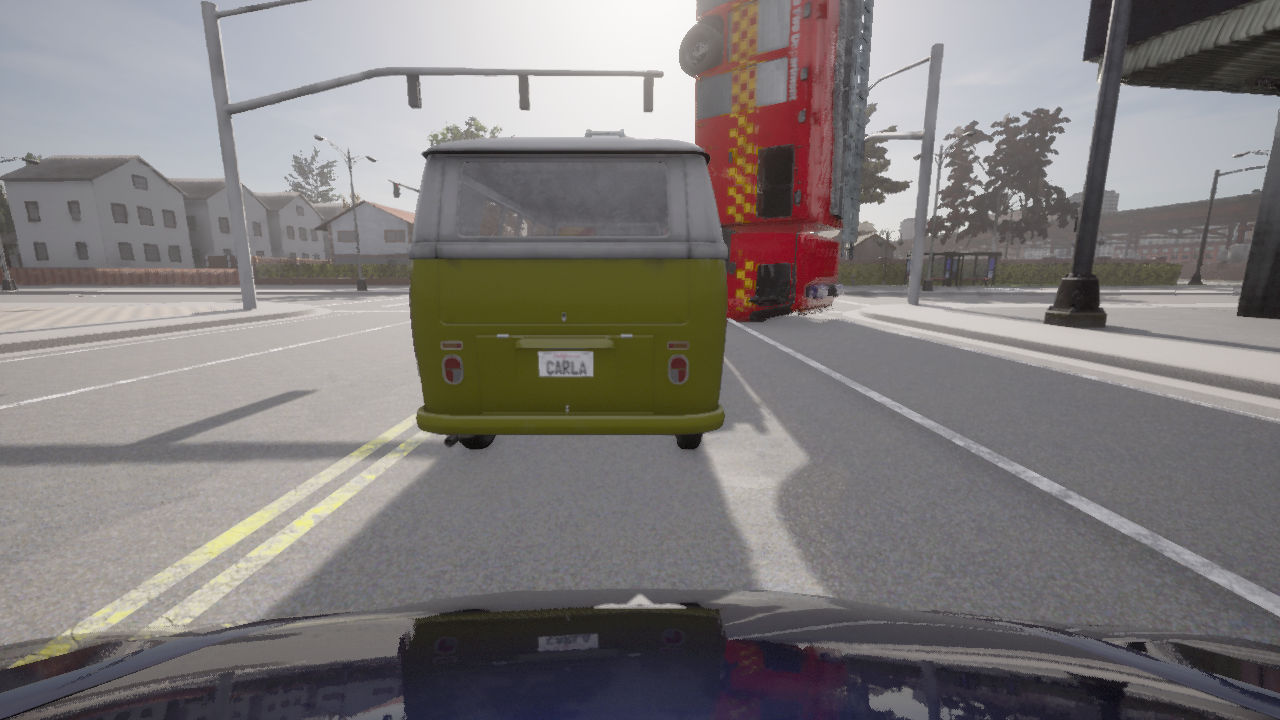cyclist: (0, 588, 1279, 719), (408, 137, 727, 449), (678, 0, 872, 321), (586, 130, 627, 137)
pedestrian: (852, 265, 855, 284), (981, 282, 983, 284)
